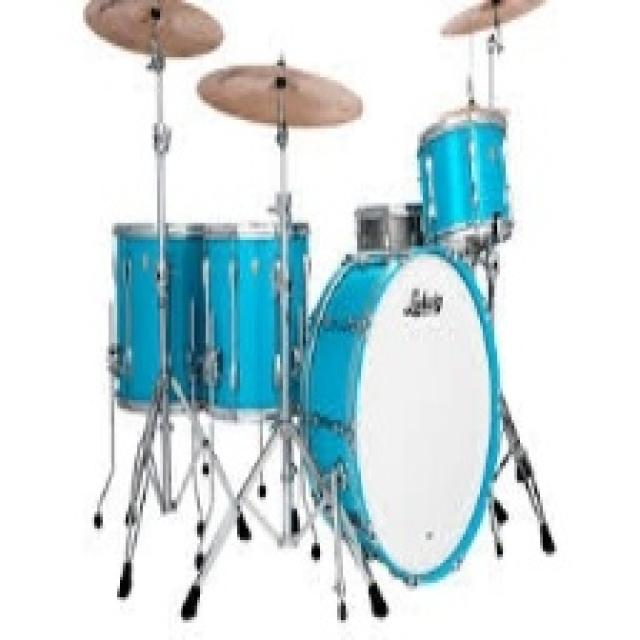drums: (83, 0, 564, 606)
